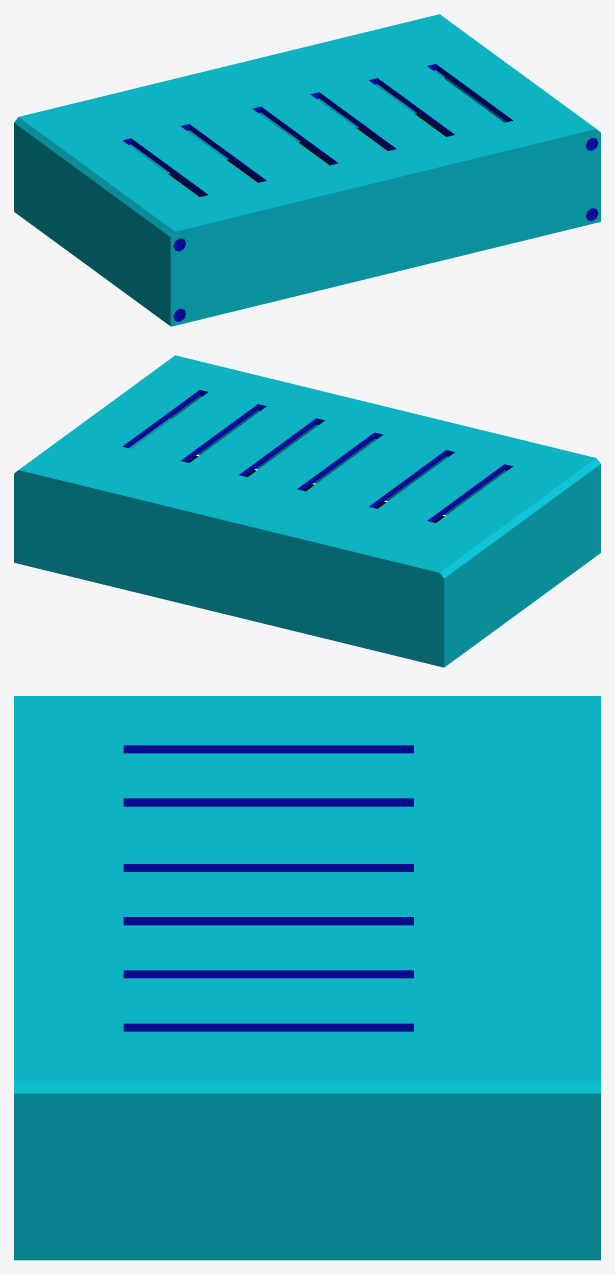
The picture shows the model from 3 angles, top to bottom: view 1: azimuth 30°, elevation 25°; view 2: azimuth 150°, elevation 25°; view 3: azimuth 270°, elevation 25°; orthographic projection. The views are drawn at different scales.
Parts seen in each view (by area): view 1: DaftBoxBase; view 2: DaftBoxBase; view 3: DaftBoxBase.
Boxes of the visible parts, x1,y1,x2,y2 form: DaftBoxBase: [14, 14, 600, 326]; DaftBoxBase: [14, 355, 600, 667]; DaftBoxBase: [14, 696, 600, 1260].
Bounding box in the file's own units: 0.1355 × 0.0283 × 0.0855.
